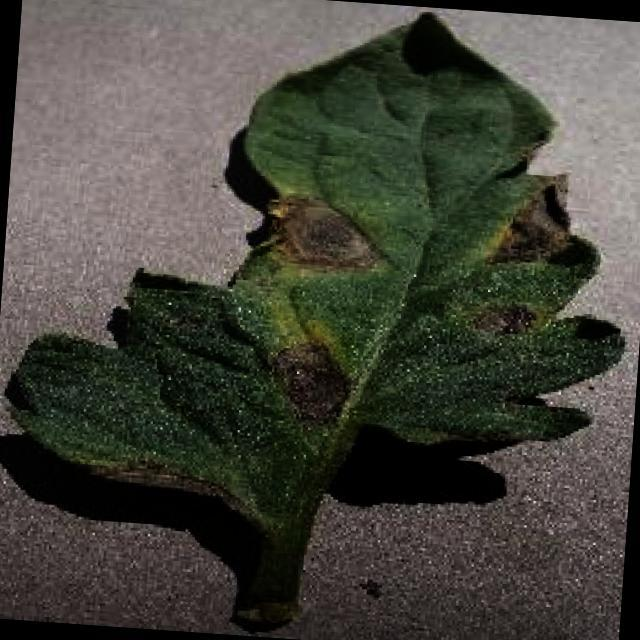Tomato Early blight leaf: (8, 0, 640, 547)
